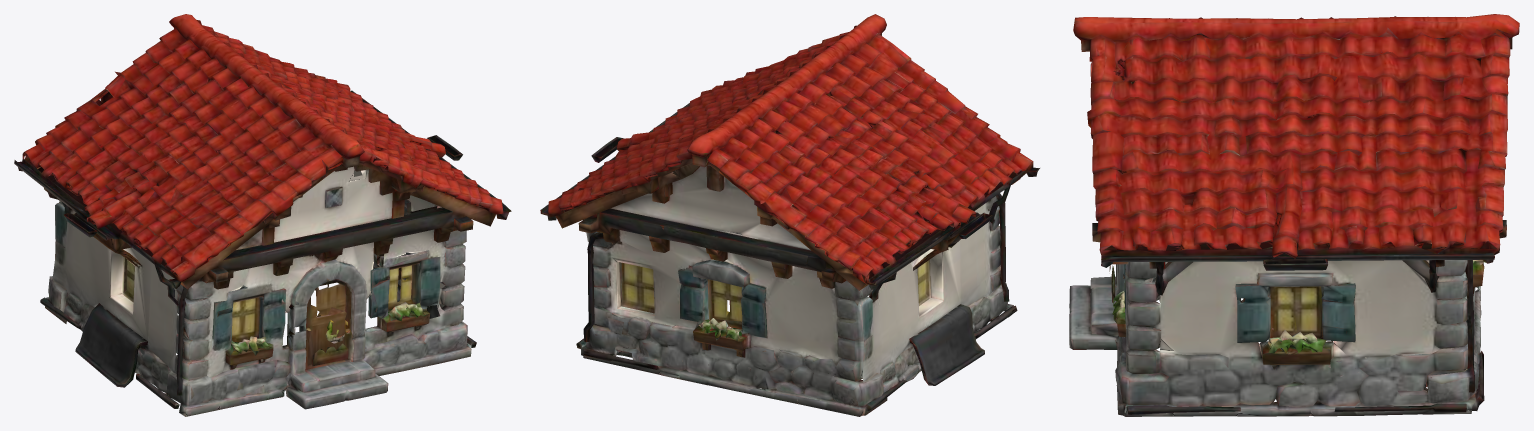
The picture shows the model from 3 angles, left to right: view 1: azimuth 30°, elevation 25°; view 2: azimuth 150°, elevation 25°; view 3: azimuth 270°, elevation 25°; orthographic projection. The views are drawn at different scales.
Visible parts, largest first — view 1: alpine__tower_1__native_mobile; view 2: alpine__tower_1__native_mobile; view 3: alpine__tower_1__native_mobile.
Boxes of the visible parts, x1,y1,x2,y2 form: alpine__tower_1__native_mobile: (14,14,511,416); alpine__tower_1__native_mobile: (540,14,1039,416); alpine__tower_1__native_mobile: (1069,14,1519,416).
Size of the model in its own units: 1 by 0.6634 by 0.8434.
1 material, 1 textured.
